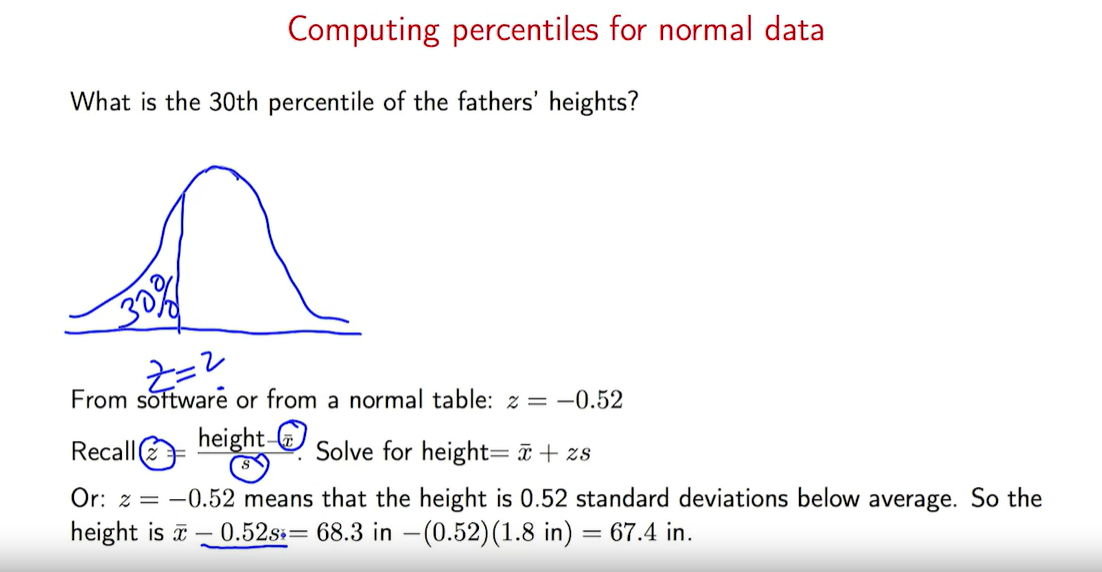equation: (170, 518, 691, 547), (147, 422, 301, 472), (420, 438, 595, 466), (502, 381, 628, 415), (116, 484, 237, 514)
figure: (63, 163, 367, 342)
text: (241, 484, 1042, 510), (286, 11, 828, 47), (71, 85, 639, 115), (71, 387, 493, 411), (316, 438, 416, 466), (70, 519, 165, 545), (70, 438, 142, 468), (67, 484, 105, 508)
